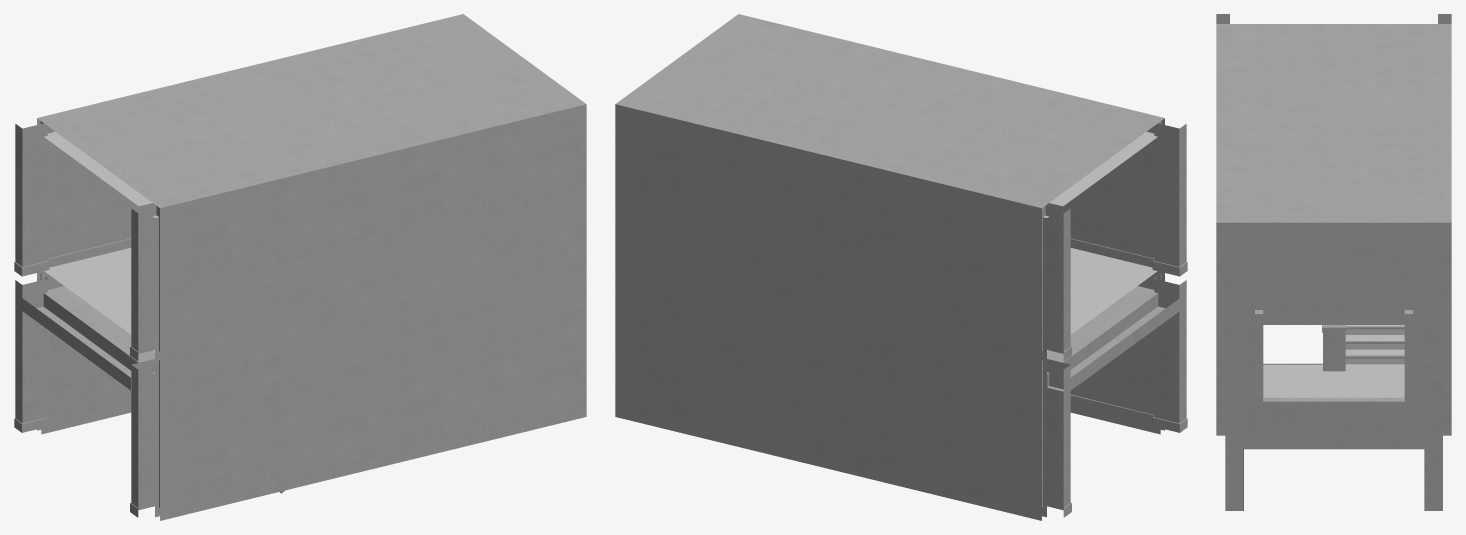
File: Stair_Top 2.fbx
3 views of the same model, side by side, from view 1: azimuth 30°, elevation 25°; view 2: azimuth 150°, elevation 25°; view 3: azimuth 270°, elevation 25° (orthographic). The views are drawn at different scales.
Visible parts, largest first — view 1: SM_StaircaseMesh_01_Top_LOD0; view 2: SM_StaircaseMesh_01_Top_LOD0; view 3: SM_StaircaseMesh_01_Top_LOD0.
Part boxes in pixels (x1=…): SM_StaircaseMesh_01_Top_LOD0: x1=14, y1=14, x2=586, y2=520; SM_StaircaseMesh_01_Top_LOD0: x1=615, y1=14, x2=1187, y2=520; SM_StaircaseMesh_01_Top_LOD0: x1=1216, y1=14, x2=1451, y2=510.
Size of the model in its own units: 10.72 by 7.16 by 5.
